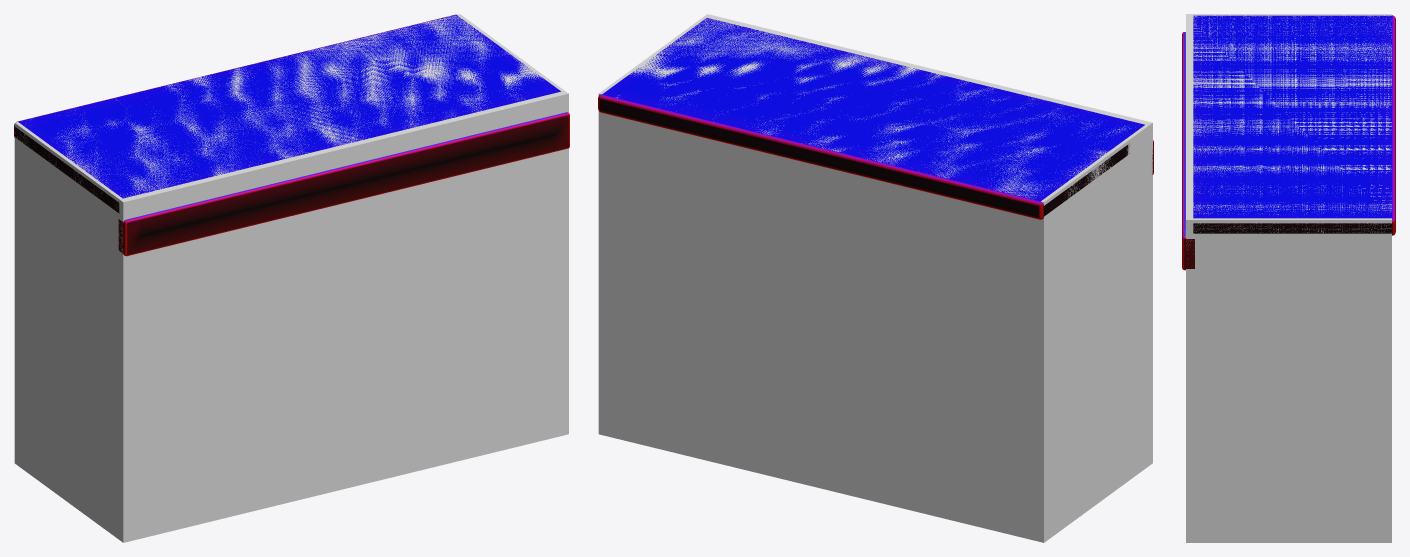
File: prop_counter.fbx
The picture shows the model from 3 angles, left to right: view 1: azimuth 30°, elevation 25°; view 2: azimuth 150°, elevation 25°; view 3: azimuth 270°, elevation 25°; orthographic projection. The views are drawn at different scales.
Visible parts, largest first — view 1: COL_0, prop_counter; view 2: COL_0, prop_counter; view 3: COL_0, prop_counter.
Boxes of the visible parts, left/top/right/bottom form: COL_0: left=14, top=14, right=568, bottom=542; prop_counter: left=14, top=14, right=569, bottom=256; COL_0: left=598, top=14, right=1152, bottom=542; prop_counter: left=598, top=18, right=1153, bottom=219; COL_0: left=1186, top=14, right=1391, bottom=542; prop_counter: left=1182, top=15, right=1395, bottom=270.
Bounding box in the file's own units: 1.3 × 0.95 × 0.57.
